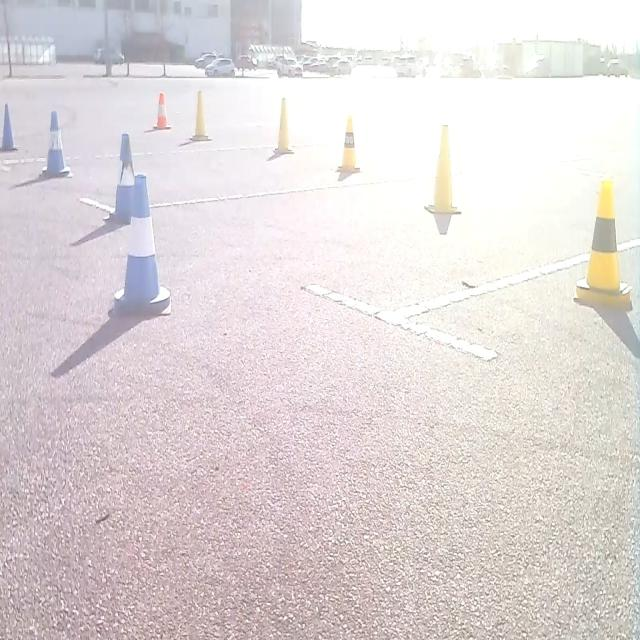blue_cone: (111, 172, 171, 318), (104, 131, 135, 225), (40, 108, 72, 178), (1, 102, 18, 152)
orange_cone: (152, 90, 172, 131)
yellow_cone: (574, 176, 631, 308), (424, 122, 461, 233), (336, 114, 361, 175), (274, 96, 294, 155), (190, 88, 210, 140)
